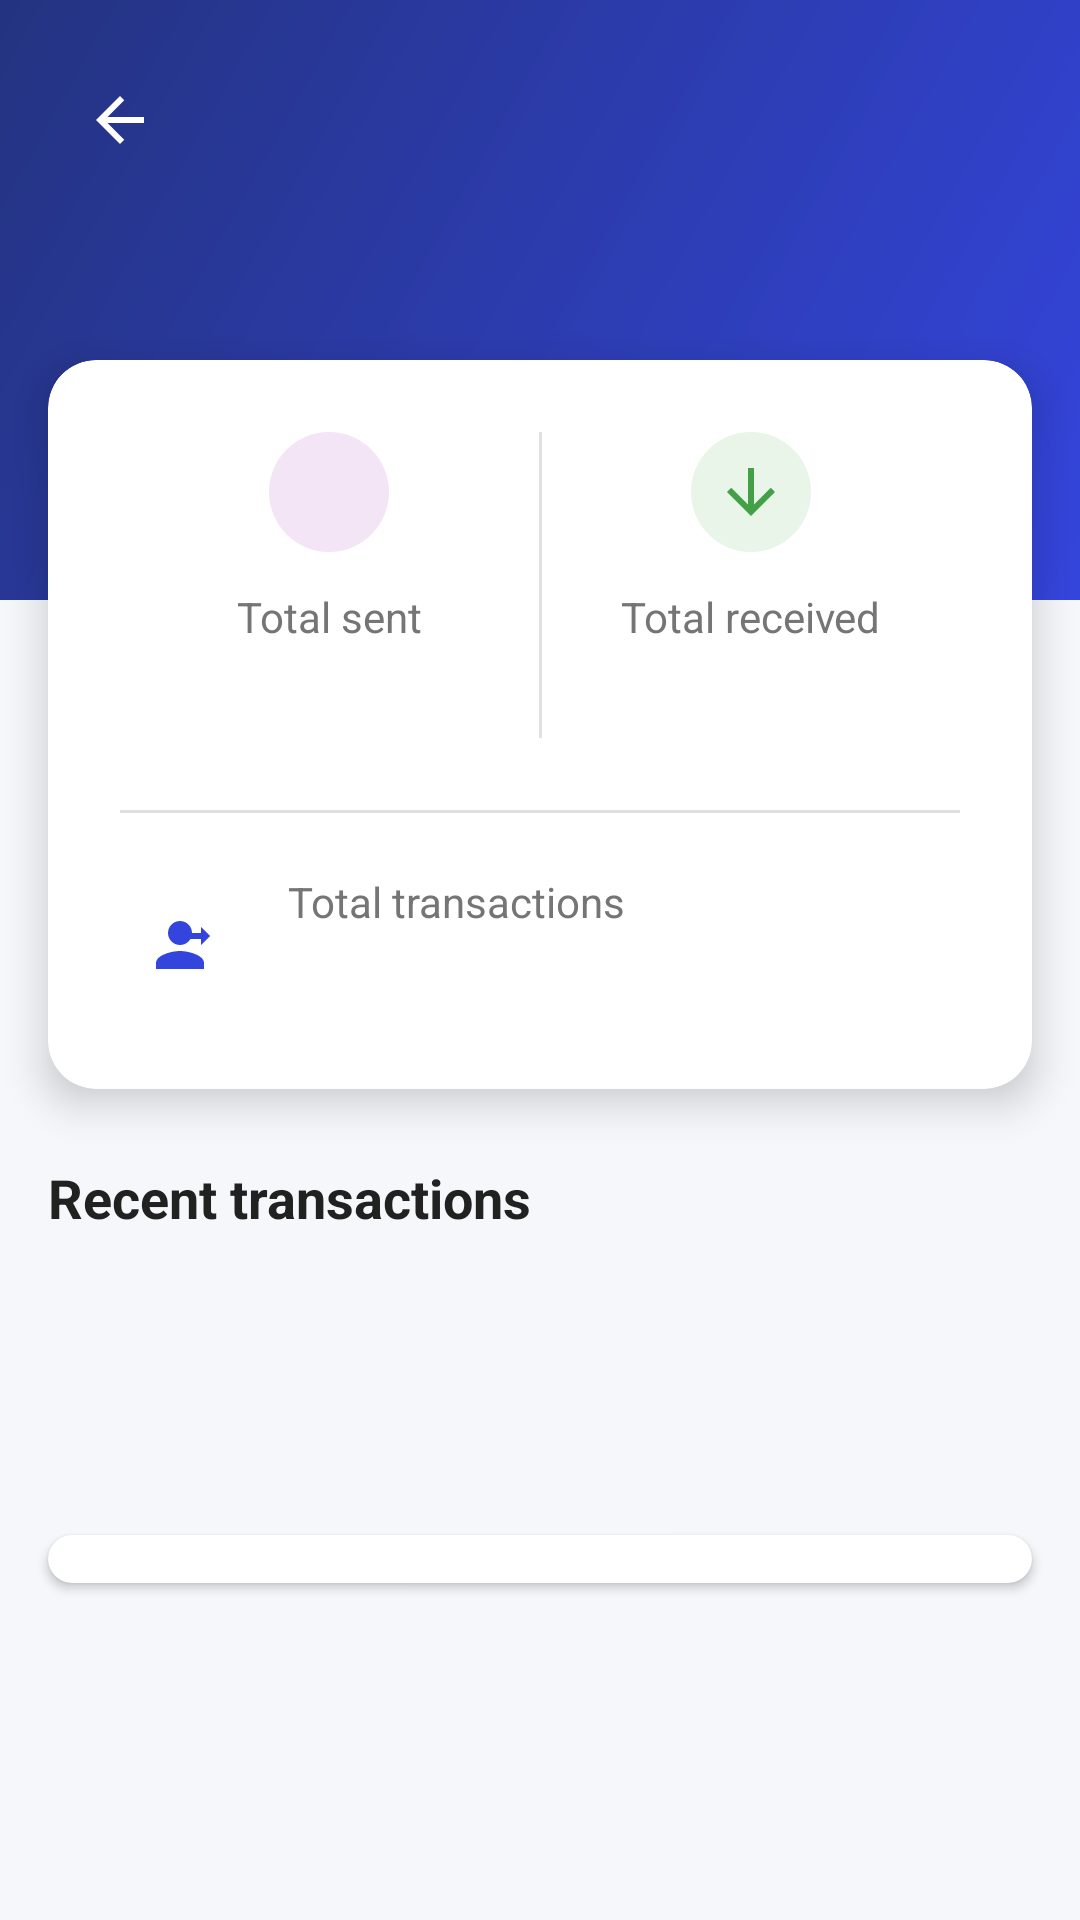

Icon bounding boxes for this 1080 x 1920 phone screenshot, format [left=x1, top=y1, right=x2, bottom=y2]:
arrow back: [left=96, top=96, right=144, bottom=144]
arrow downward: [left=691, top=432, right=811, bottom=552]
